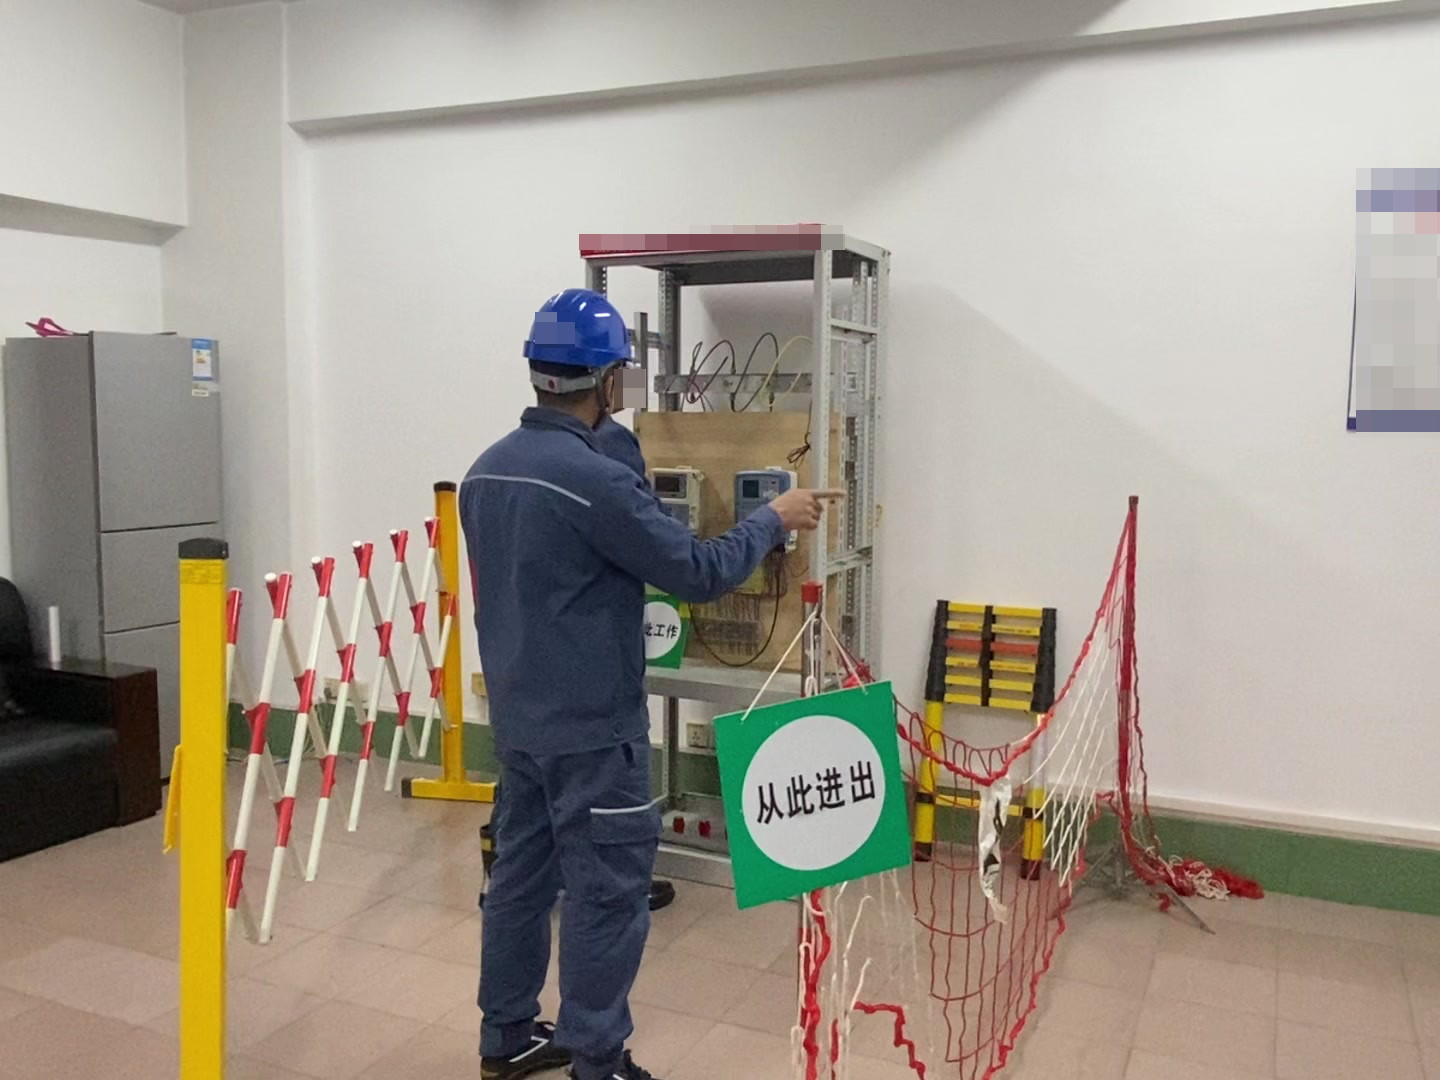downsuit: (473, 748, 650, 1047)
halt: (520, 287, 642, 416)
hand: (770, 483, 847, 534)
inear: (591, 364, 617, 421)
intosign: (697, 670, 927, 915)
person: (448, 284, 805, 1080)
upsuit: (448, 409, 786, 744)
worksign: (632, 589, 696, 672)
